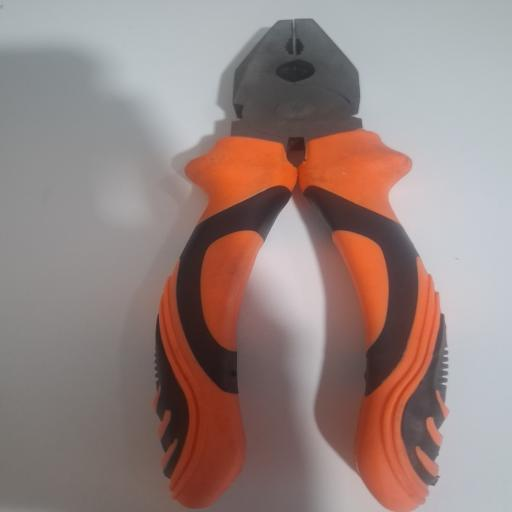alicate: (147, 20, 453, 512)
